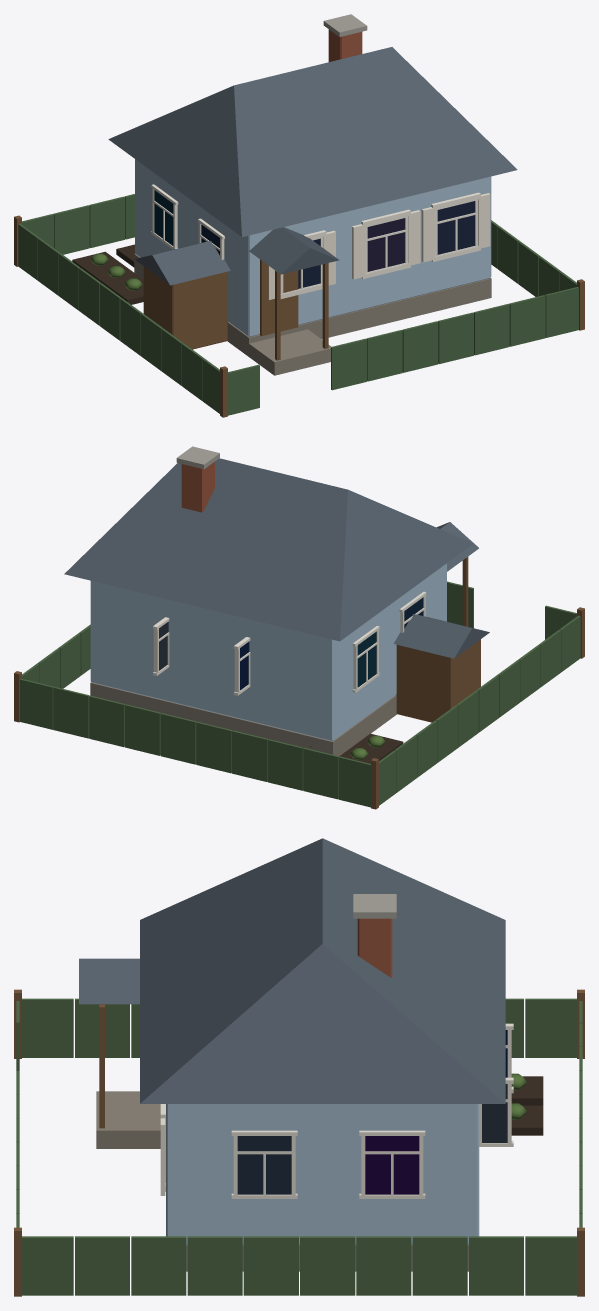
File: house_b.glb
The picture shows the model from 3 angles, top to bottom: view 1: azimuth 30°, elevation 25°; view 2: azimuth 150°, elevation 25°; view 3: azimuth 270°, elevation 25°; orthographic projection. The views are drawn at different scales.
Visible parts, largest first — view 1: house_b; view 2: house_b; view 3: house_b.
Part boxes in pixels (bbox=[...]): house_b: bbox=[14, 14, 584, 417]; house_b: bbox=[14, 446, 584, 809]; house_b: bbox=[14, 838, 584, 1296].
Size of the model in its own units: 9.84 by 6.12 by 9.84.
